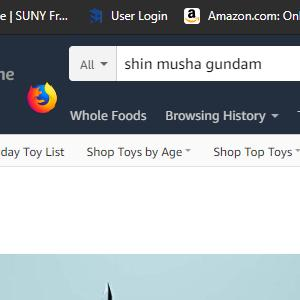firefox: (26, 81, 58, 114)
